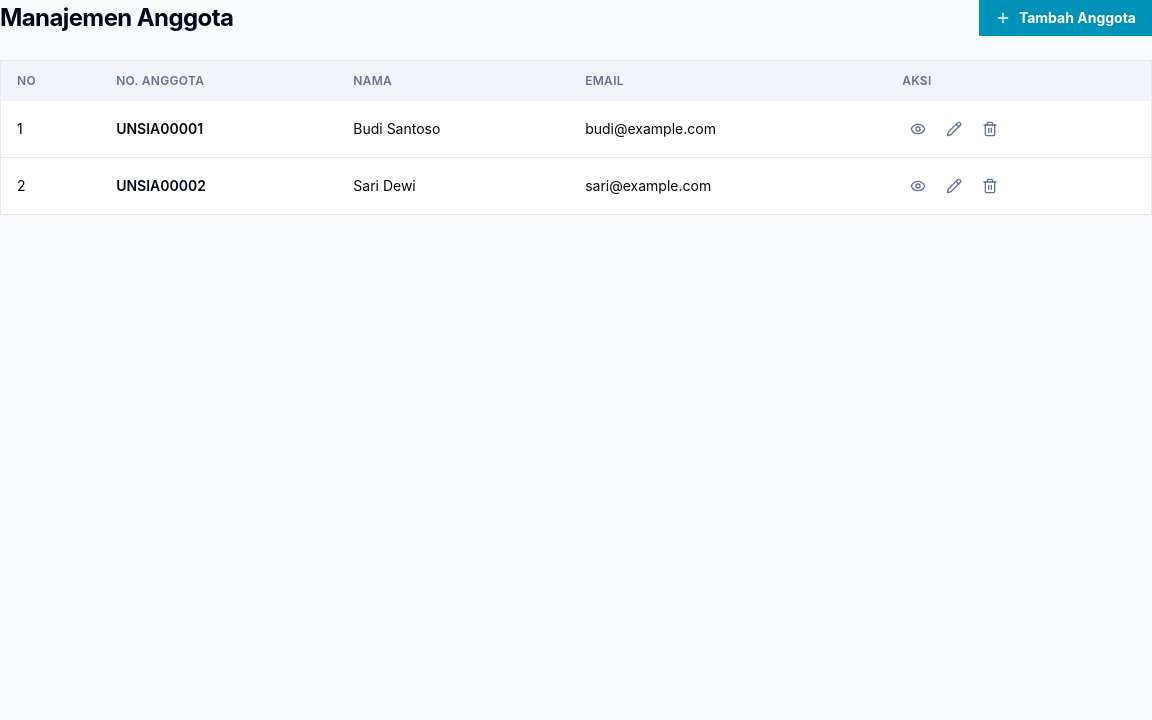
Test: MembersPage › edits a member omitting empty optional fields
Expected: the text "Budi Santoso" is shown, left=337, top=101, right=569, bottom=158
Click the button named "Edit" in the row of "UNSIA00002" at (954, 186), box left=938, top=170, right=970, bottom=202
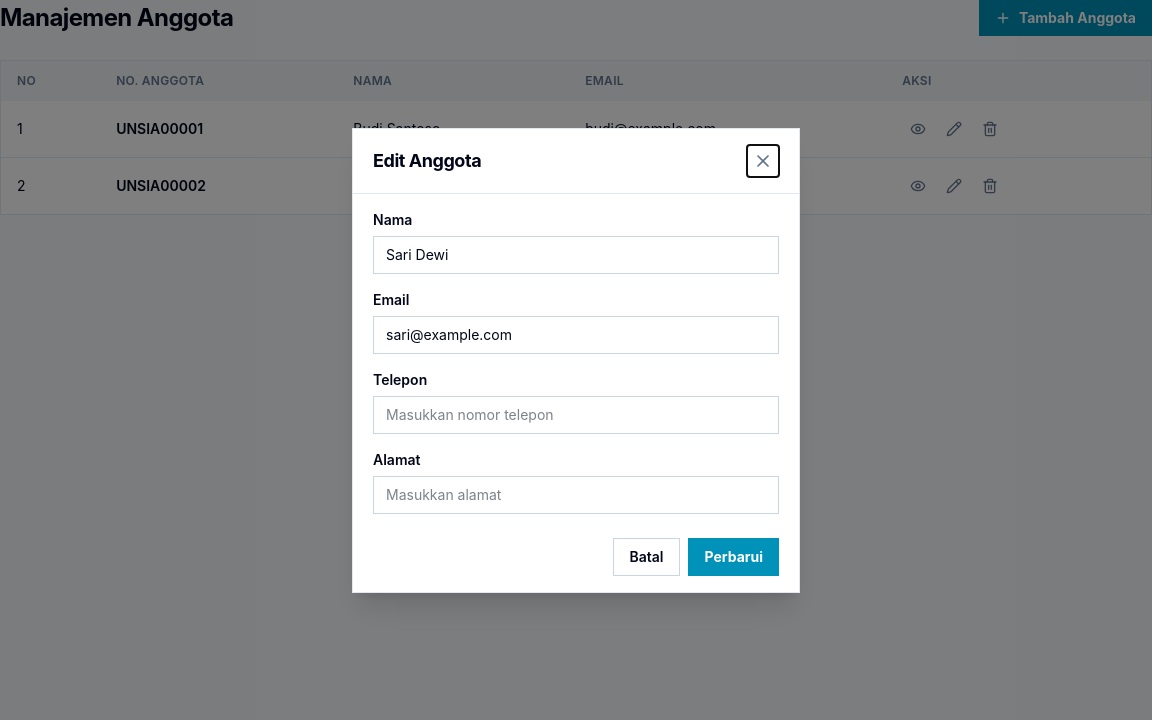
Now the field labelled "Nama" holds "Sari Dewi"
Now the field labelled "Email" holds "sari@example.com", box left=373, top=316, right=779, bottom=354
Now the field labelled "Telepon" is empty, box left=373, top=396, right=779, bottom=434
Replace the text in the field labelled "Nama" with "Sari Baru" at (576, 254), box left=373, top=236, right=779, bottom=274
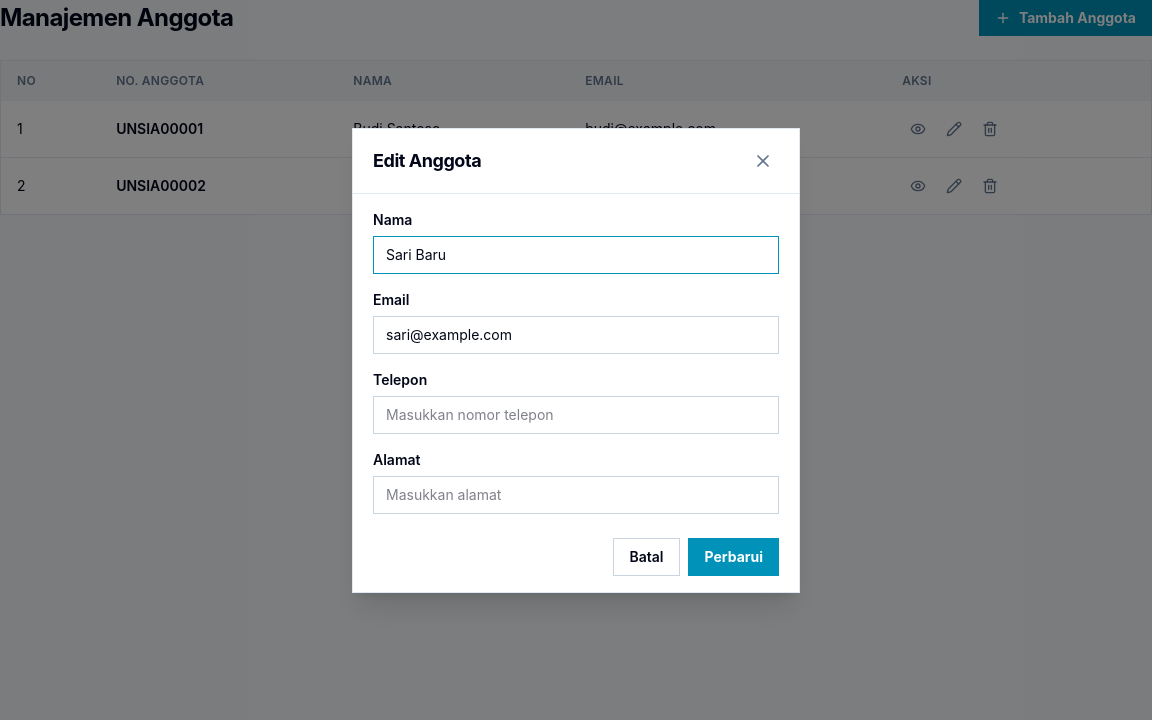
Click the button "Perbarui" at (734, 556), box left=688, top=538, right=779, bottom=576
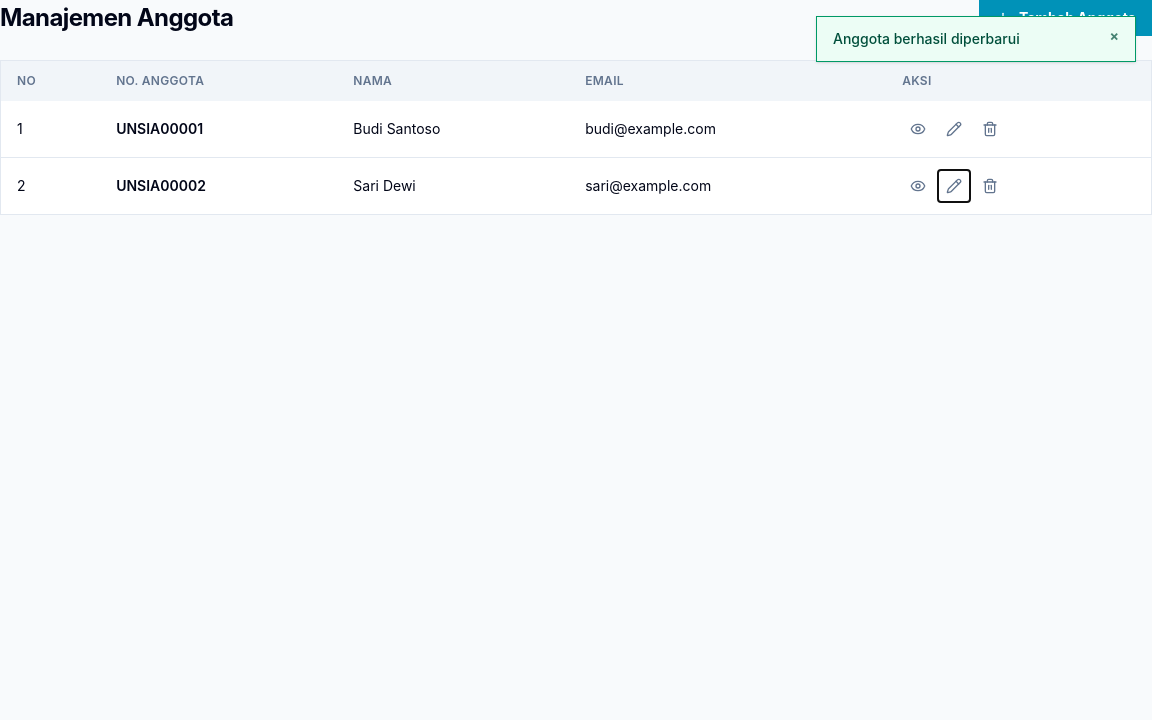
Now the text "Anggota berhasil diperbarui" is shown, box left=833, top=29, right=1020, bottom=49
